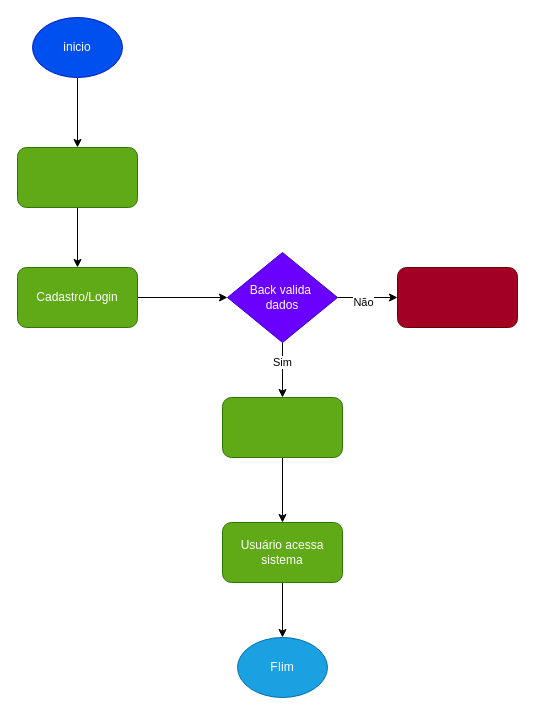
The diagram is 535 pixels wide and 715 high, and some of its shapes have lost their labels. The shapes that lost their labels are listed below. From the top down, each one's centre as x and y in pixels, then its label:
point 77,177: Usuario acessa o sistema
point 457,297: Exibe mensagem de erro
point 282,427: Salvar usuário no banco
